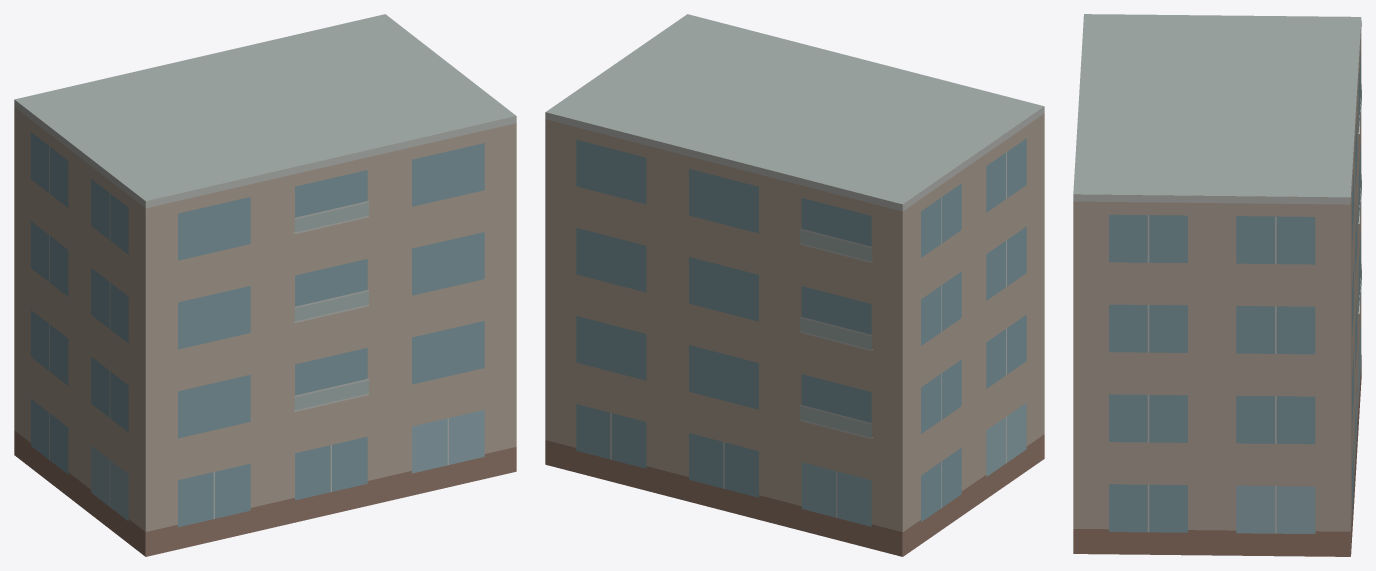
Rendered from survey-upis-32837797.glb.
The picture shows the model from 3 angles, left to right: view 1: azimuth 30°, elevation 25°; view 2: azimuth 150°, elevation 25°; view 3: azimuth 270°, elevation 25°; orthographic projection. The views are drawn at different scales.
Parts seen in each view (by area): view 1: survey-upis-32837797.tmp; view 2: survey-upis-32837797.tmp; view 3: survey-upis-32837797.tmp.
Part boxes in pixels (bbox=[...]): survey-upis-32837797.tmp: bbox=[14, 14, 516, 556]; survey-upis-32837797.tmp: bbox=[545, 14, 1044, 556]; survey-upis-32837797.tmp: bbox=[1073, 14, 1361, 556].
Bounding box in the file's own units: 13.35 × 12.2 × 8.88.
